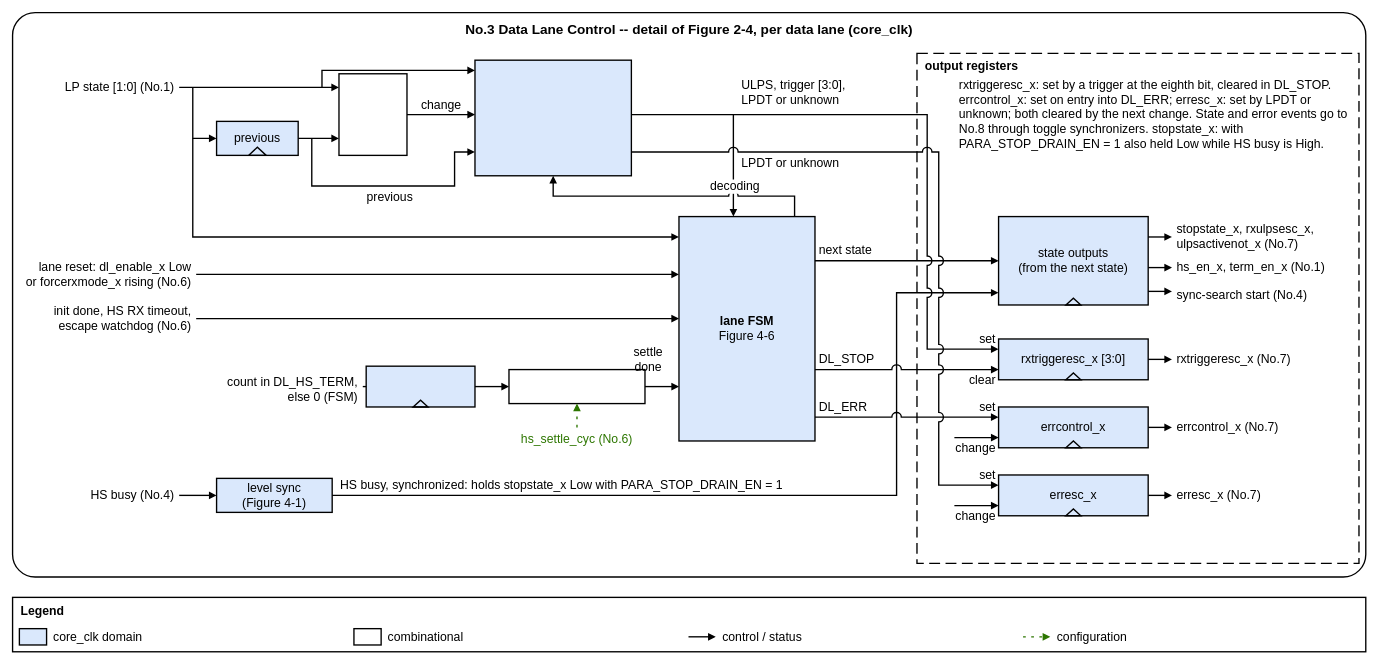
The diagram is 1380 pixels wide and 664 high, and some of its shapes have lost their labels. Here are the shapes that lost their labels. From the top down, the box of each, then its label:
(338, 73, 407, 156): not equal
(474, 59, 632, 176): escape decoder Figure 4-7
(365, 365, 475, 407): settle counter
(508, 369, 645, 404): = hs_settle_cyc
